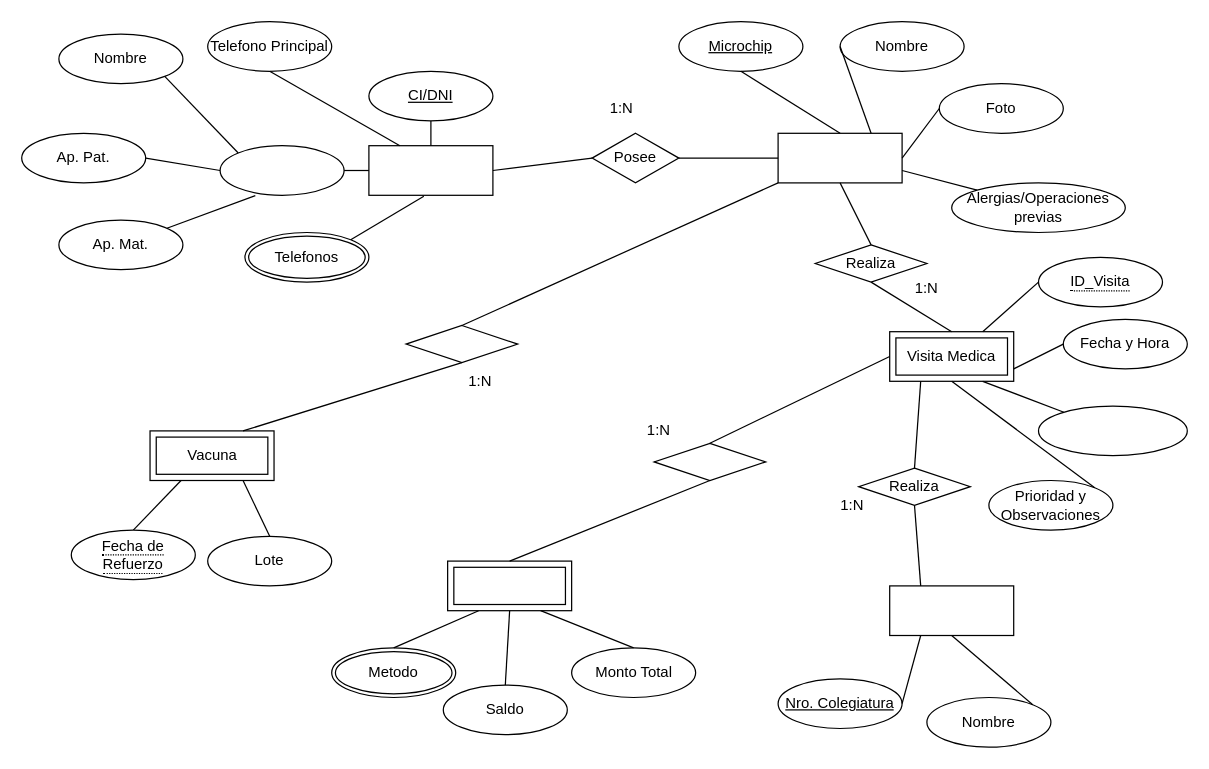
This 1209x769 diagram has some shape labels left out. Here are the shapes that lost their labels. From the top down, the centre of each, then its label:
At pixel 281 169: "Nombre Completo".
At pixel 430 169: "Dueño".
At pixel 839 157: "Mascota".
At pixel 461 343: "Recibe".
At pixel 1112 430: "Diagnostico y Recomendaciones".
At pixel 709 461: "Genera".
At pixel 509 585: "Pago".
At pixel 951 610: "Veterinario".
